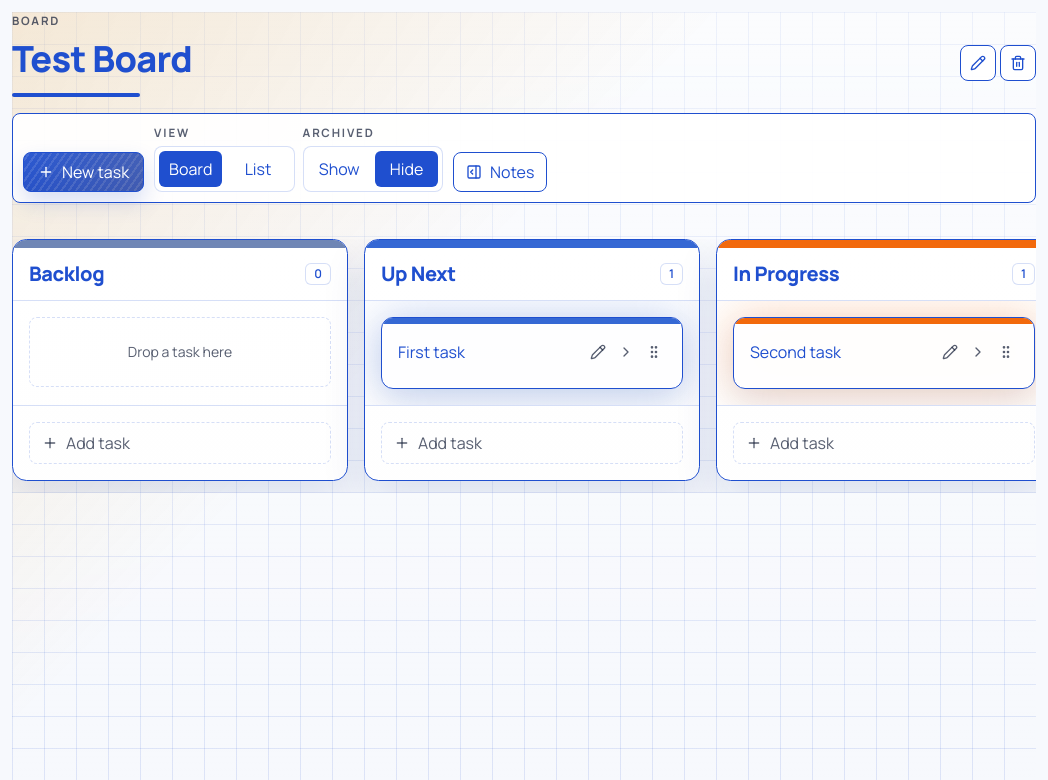
Test: BoardWorkspace drag and drop › a failed persist reverts the optimistic move and shows an error
Press the mouse on the button named "Drag First task" at (654, 352), box [642,340,666,364]
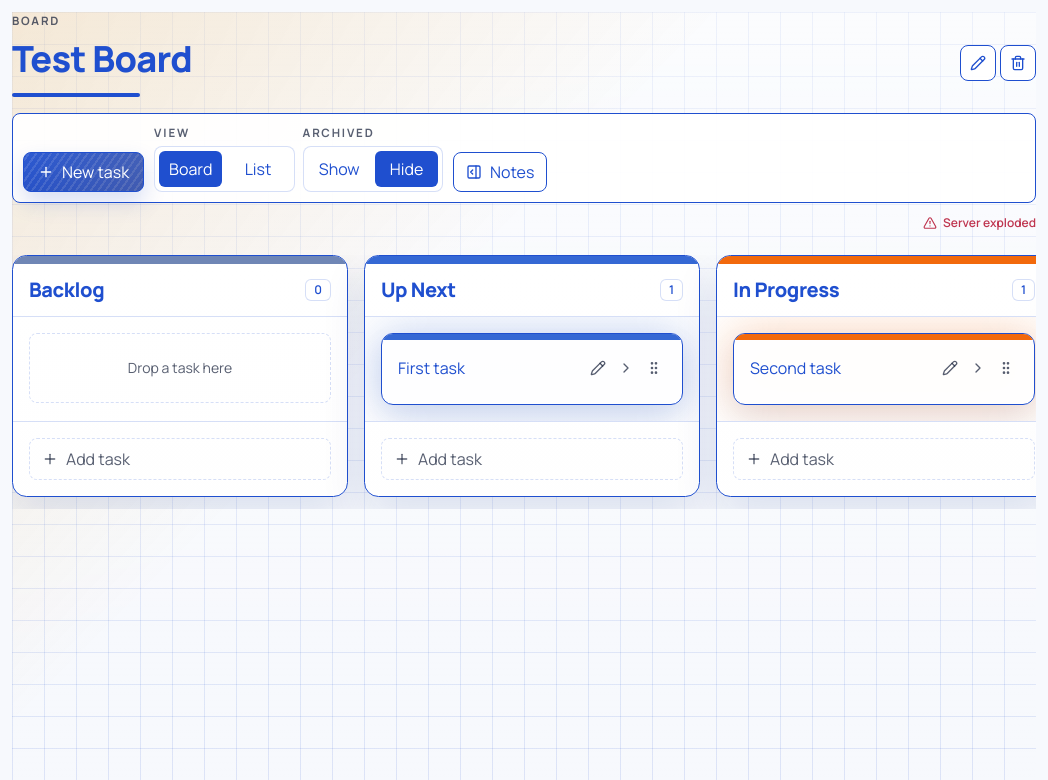
Expected: the element with class "blueprint-scrollbar" reads "First task", [398,356,574,380]
Result: the text "Server exploded" is shown at [923,214,1036,230]
